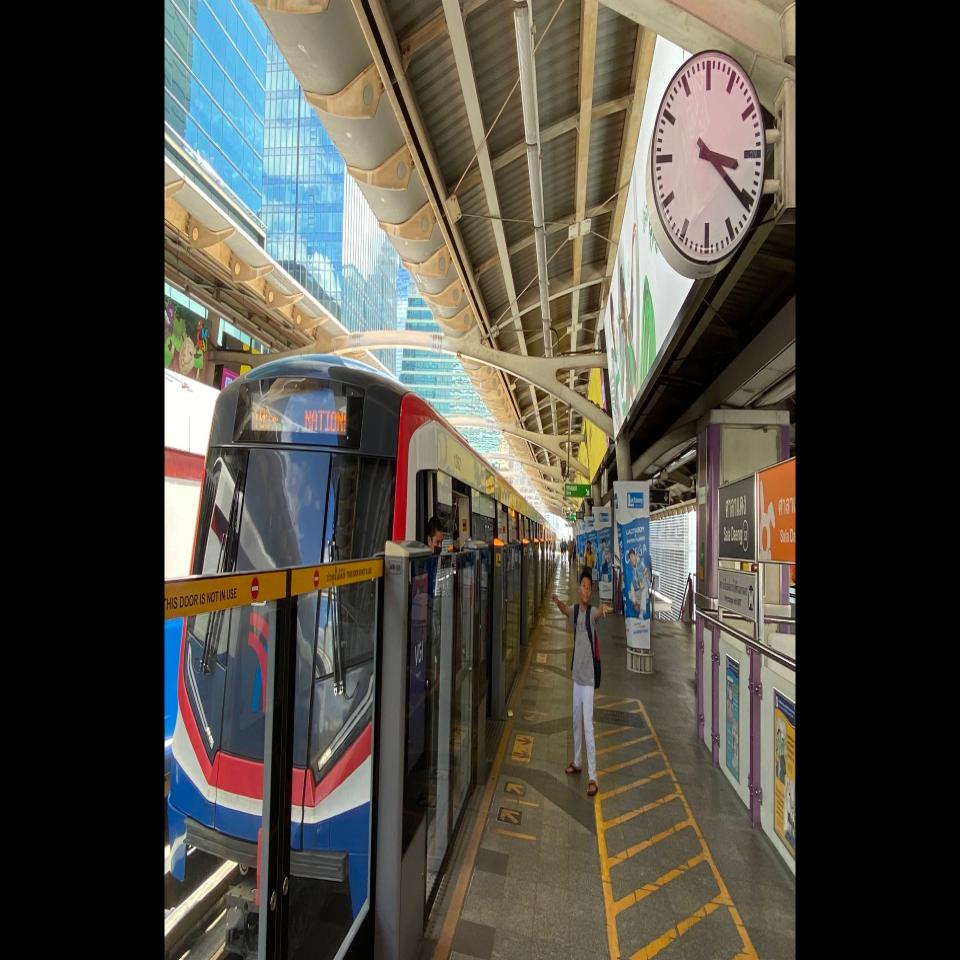signage: (717, 471, 758, 565)
